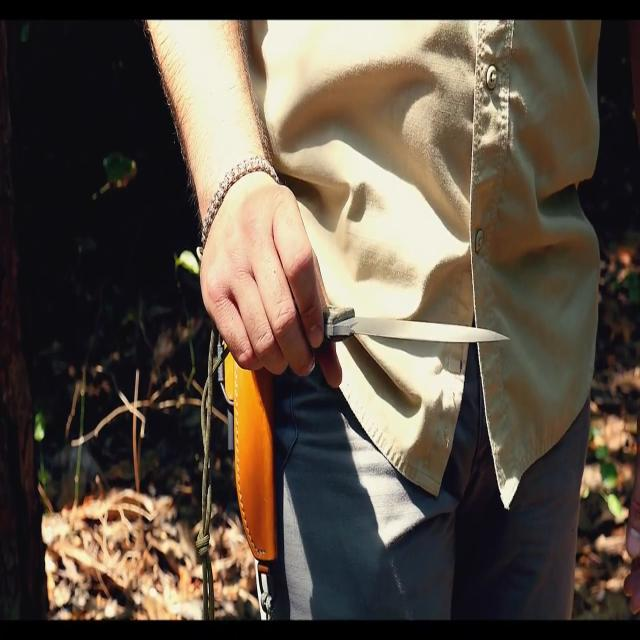knife: (323, 300, 513, 363)
